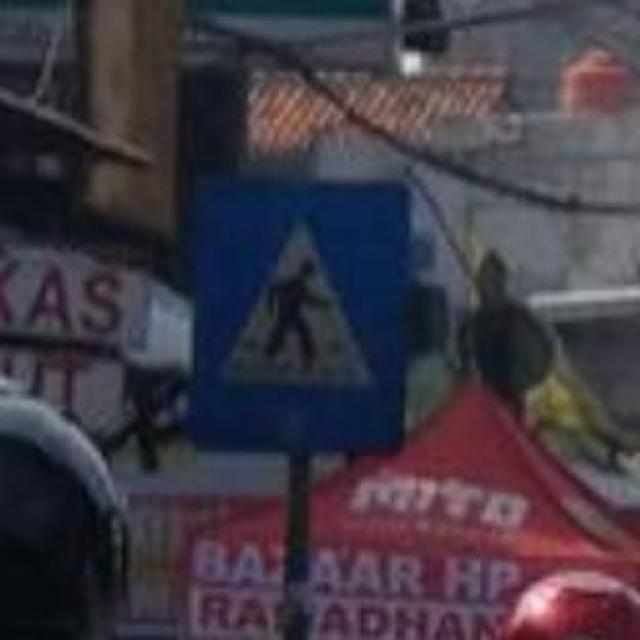traffic sign: (187, 174, 406, 459)
